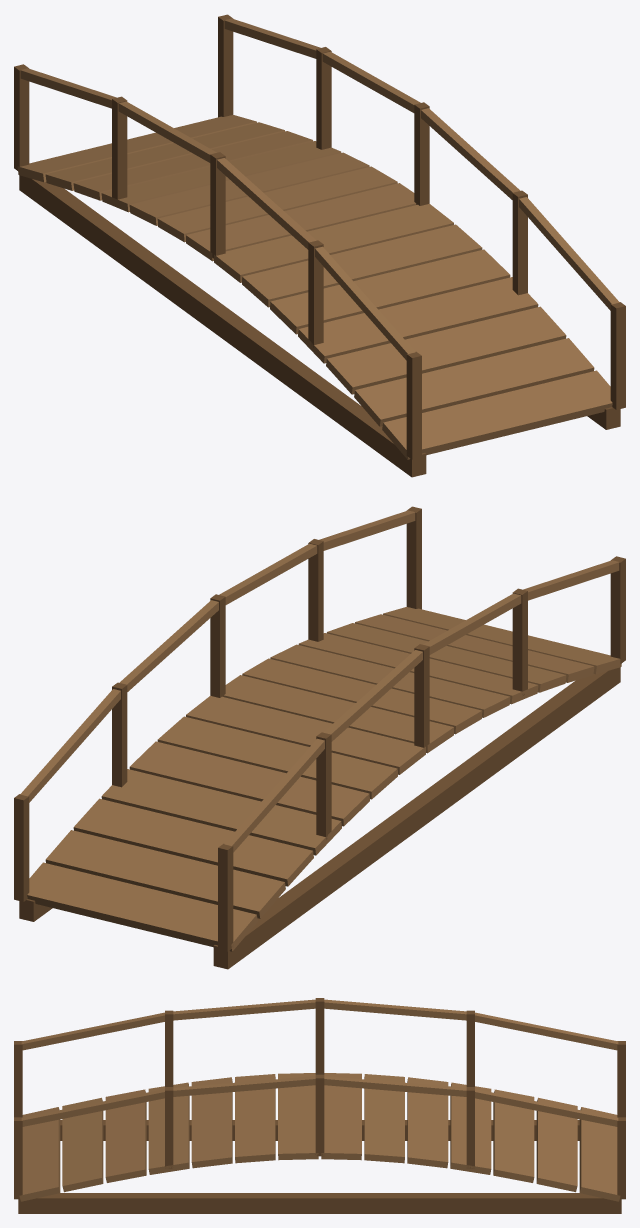
File: footbridge.gltf
3 views of the same model, one above another, from view 1: azimuth 30°, elevation 25°; view 2: azimuth 150°, elevation 25°; view 3: azimuth 270°, elevation 25° (orthographic). The views are drawn at different scales.
Visible parts, largest first — view 1: footbridge; view 2: footbridge; view 3: footbridge.
Boxes of the visible parts, bbox=[...] form: footbridge: bbox=[14, 14, 625, 477]; footbridge: bbox=[14, 506, 625, 969]; footbridge: bbox=[14, 998, 625, 1213].
Size of the model in its own units: 2.2 by 1.75 by 7.1.
